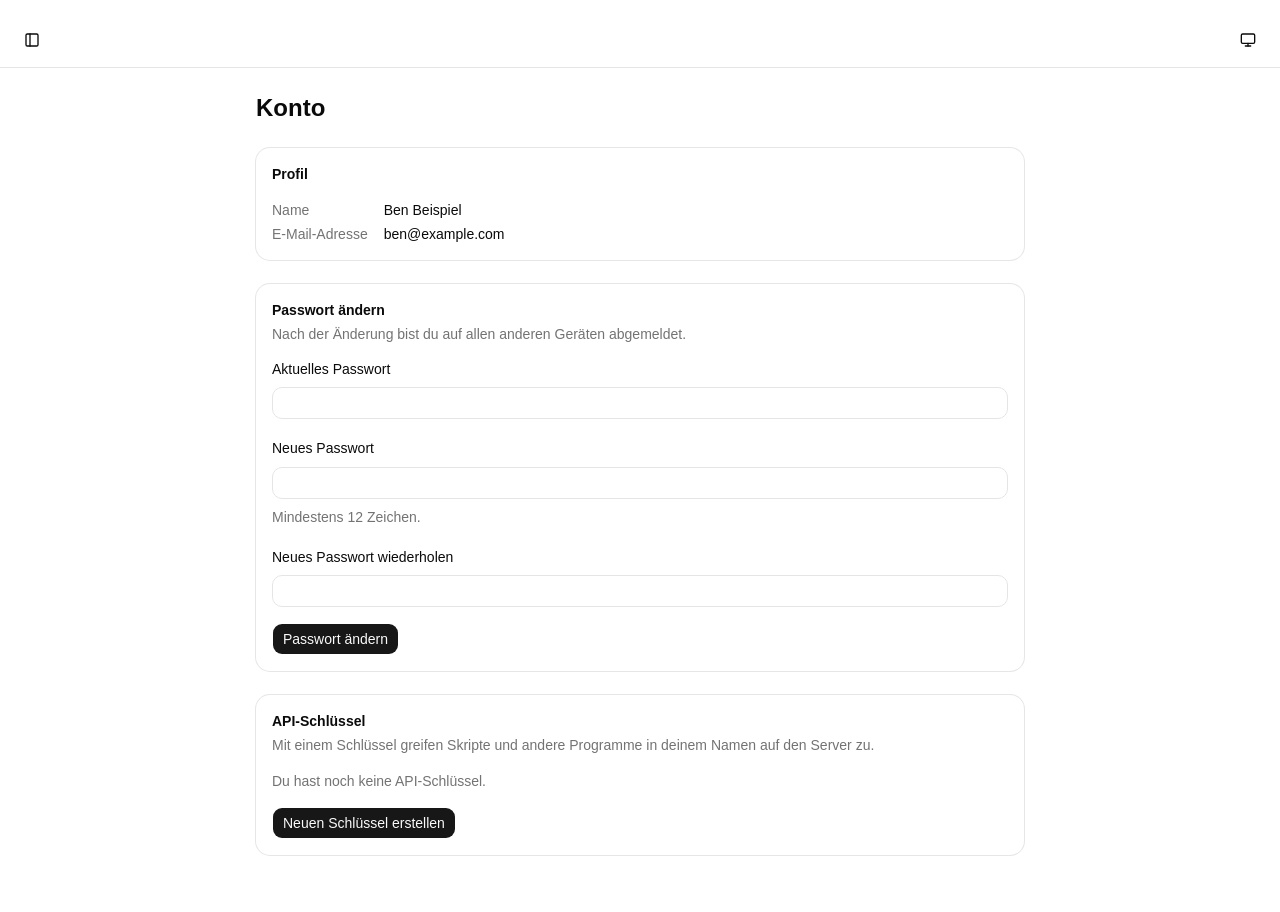
AccountPage: change password › sends the passwords, empties the fields and confirms
The width and height of the screenshot is (1280, 912).
Check: the heading "Konto" is shown, box [256,94,325,121]
Step 1. Type "old passphrase 1234" into the password field labelled "Aktuelles Passwort" → (640, 403), box [272,387,1008,419]
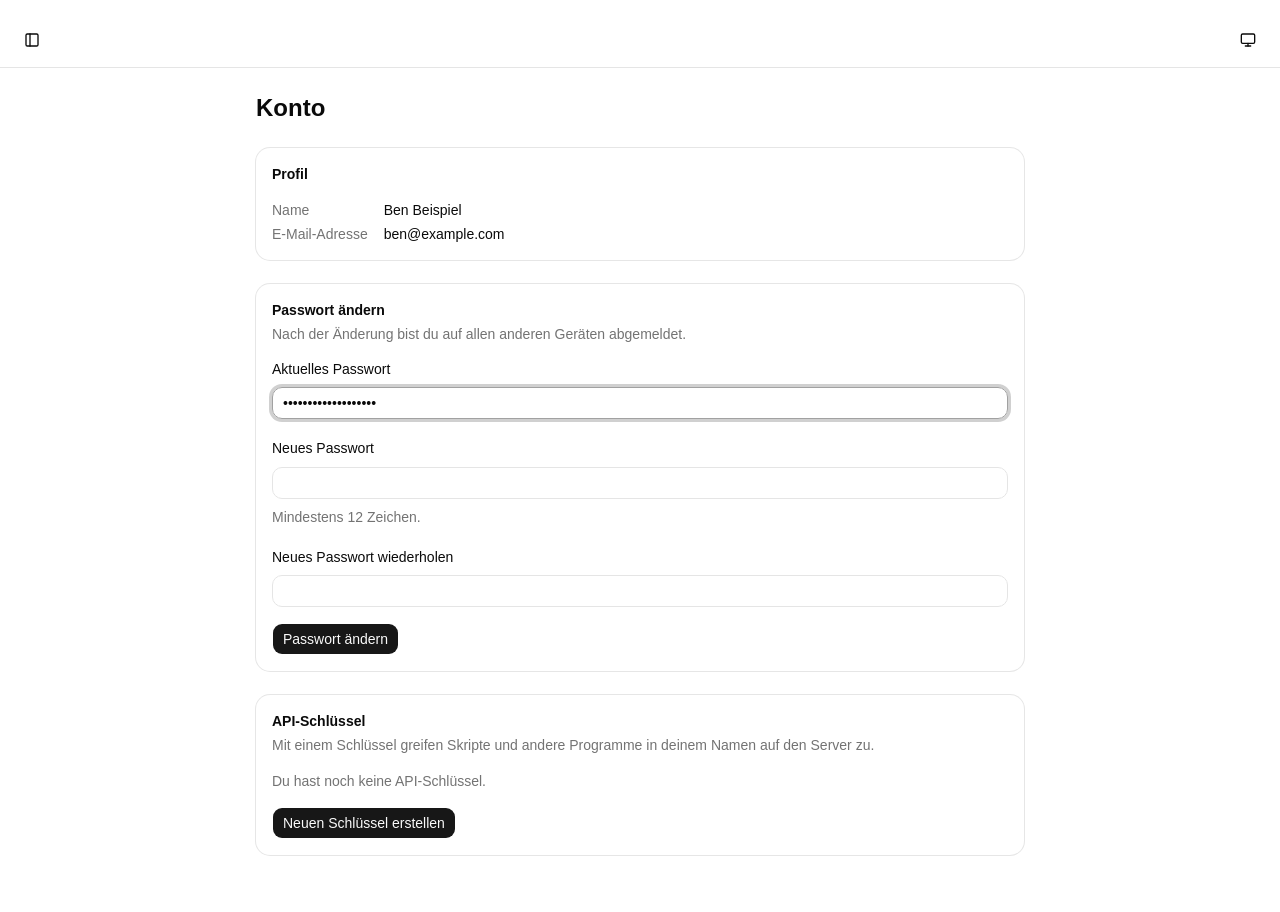
Step 2. Type "brand new passphrase" into the password field labelled "Neues Passwort" → (640, 482), box [272,466,1008,498]
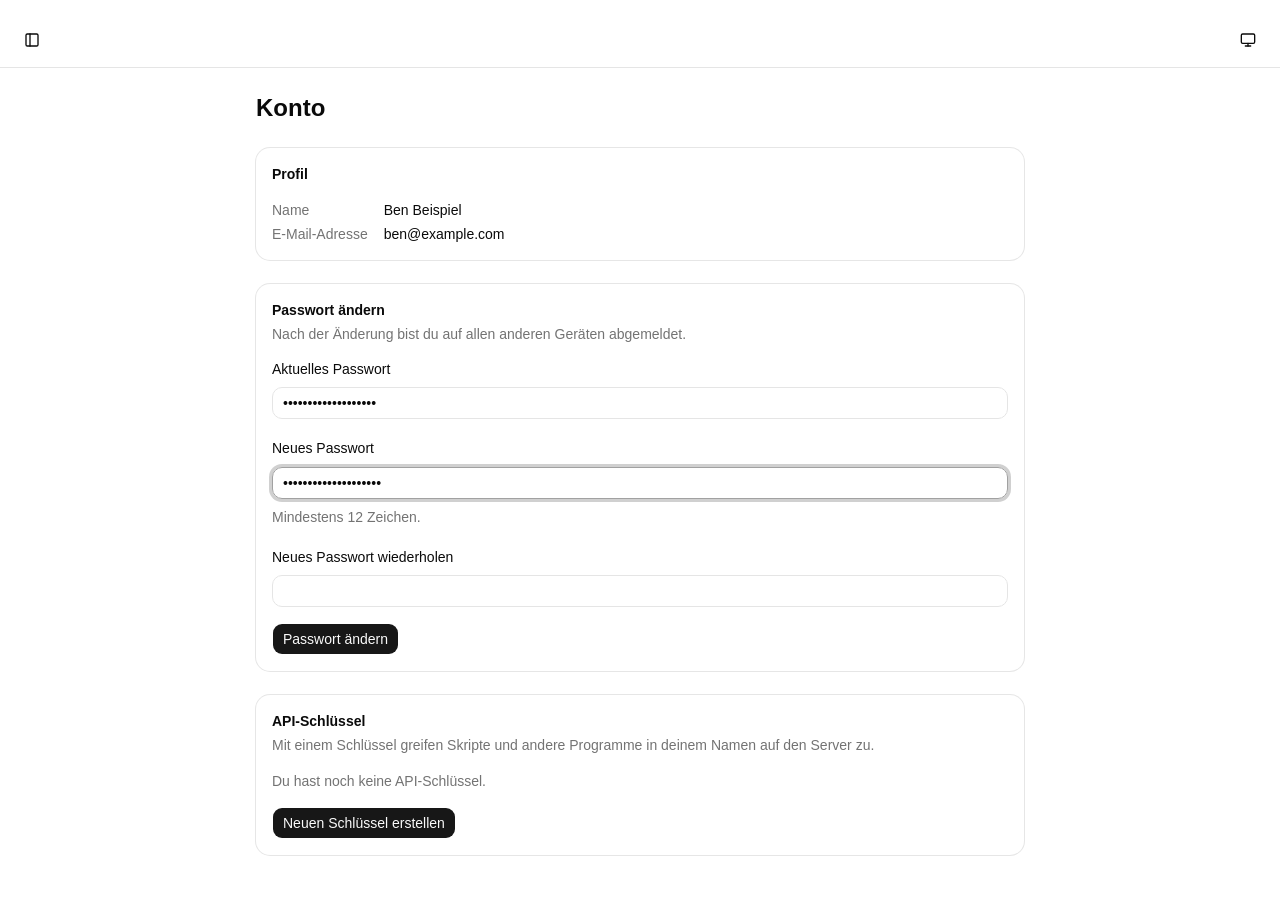
Step 3. Type "brand new passphrase" into the password field labelled "Neues Passwort wiederholen" → (640, 591), box [272,575,1008,607]
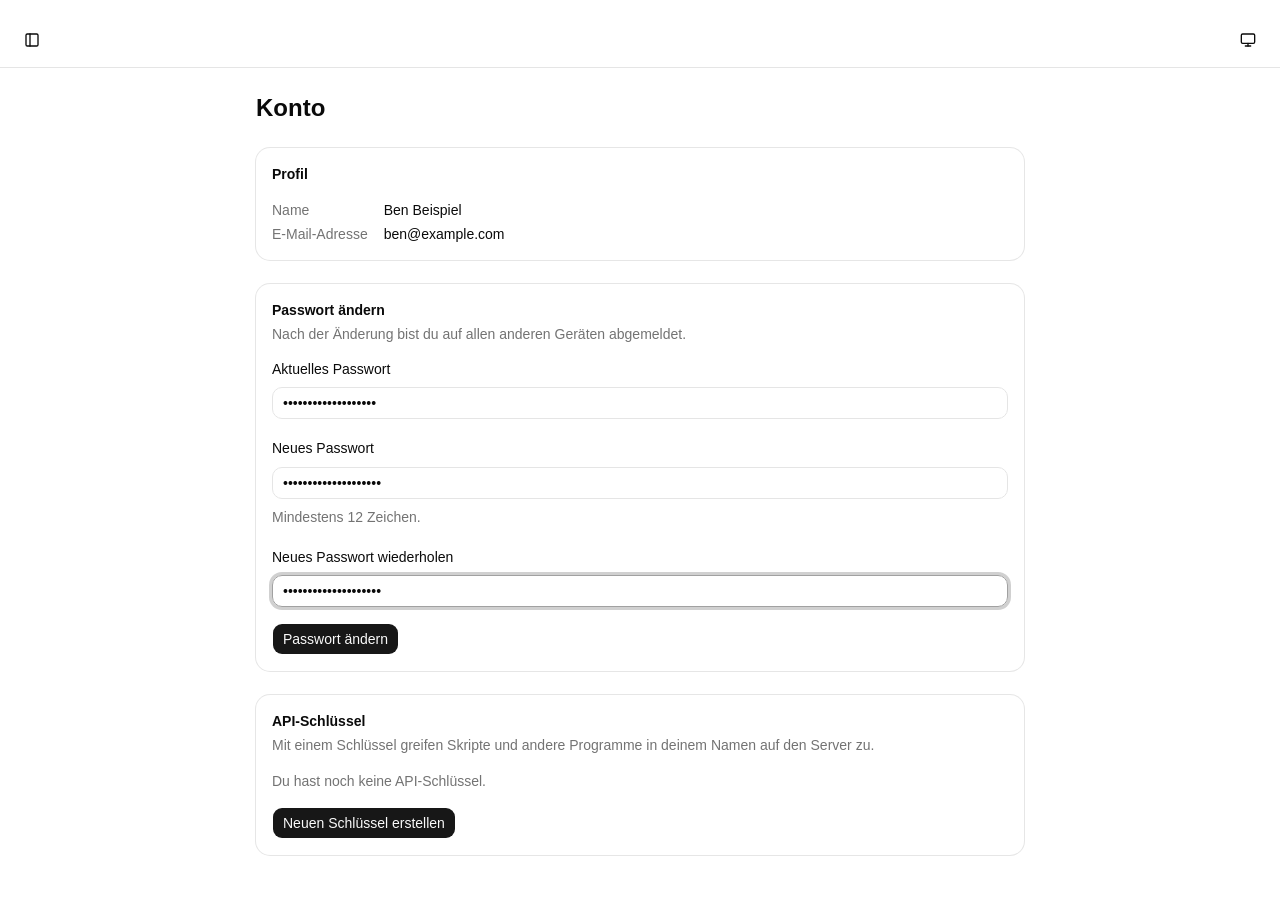
Step 4. Click the button "Passwort ändern" → click(336, 639), box [272,623,399,655]
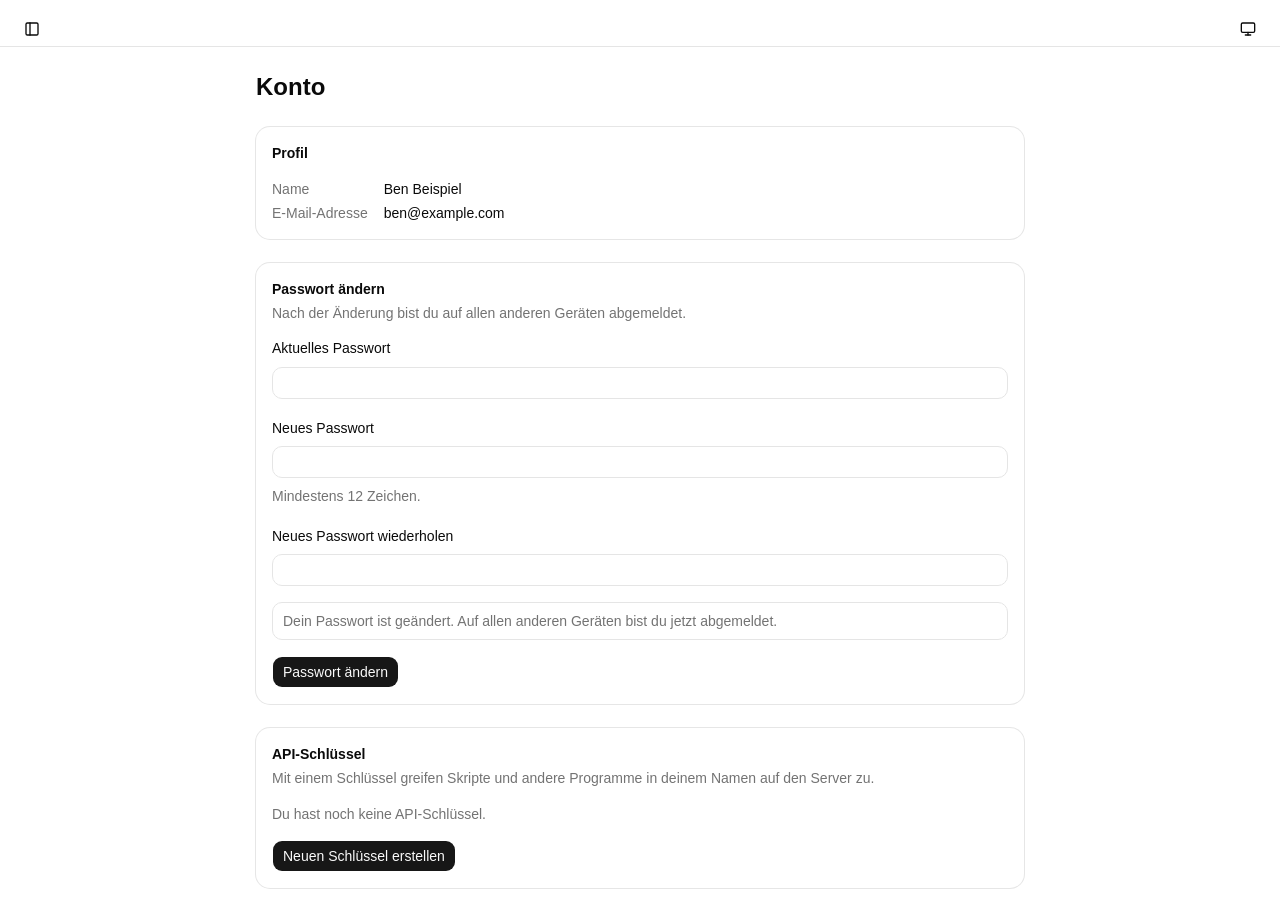
Check: the text "Dein Passwort ist geändert" is shown, box [283,613,777,629]
Check: the password field labelled "Aktuelles Passwort" is empty, box [272,366,1008,398]
Check: the password field labelled "Neues Passwort" is empty, box [272,446,1008,478]
